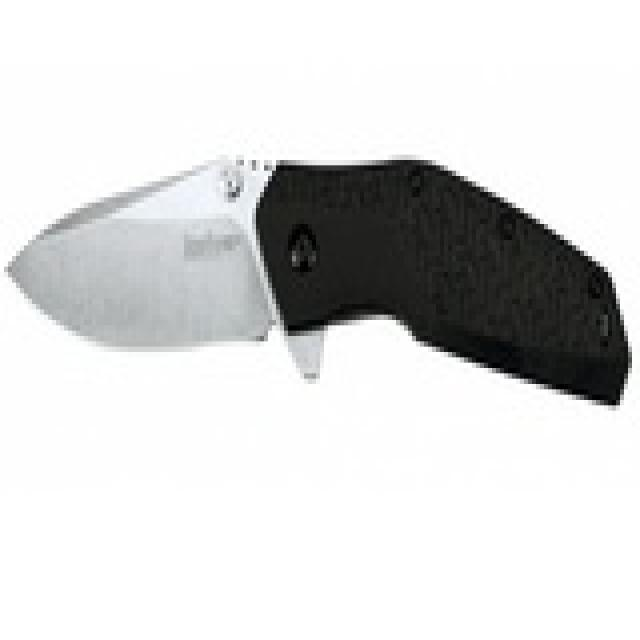Knife: (9, 84, 640, 476)
